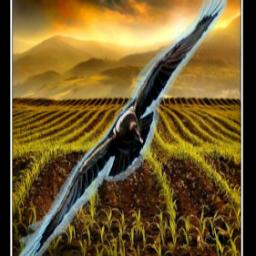Crow: (16, 0, 230, 256)
